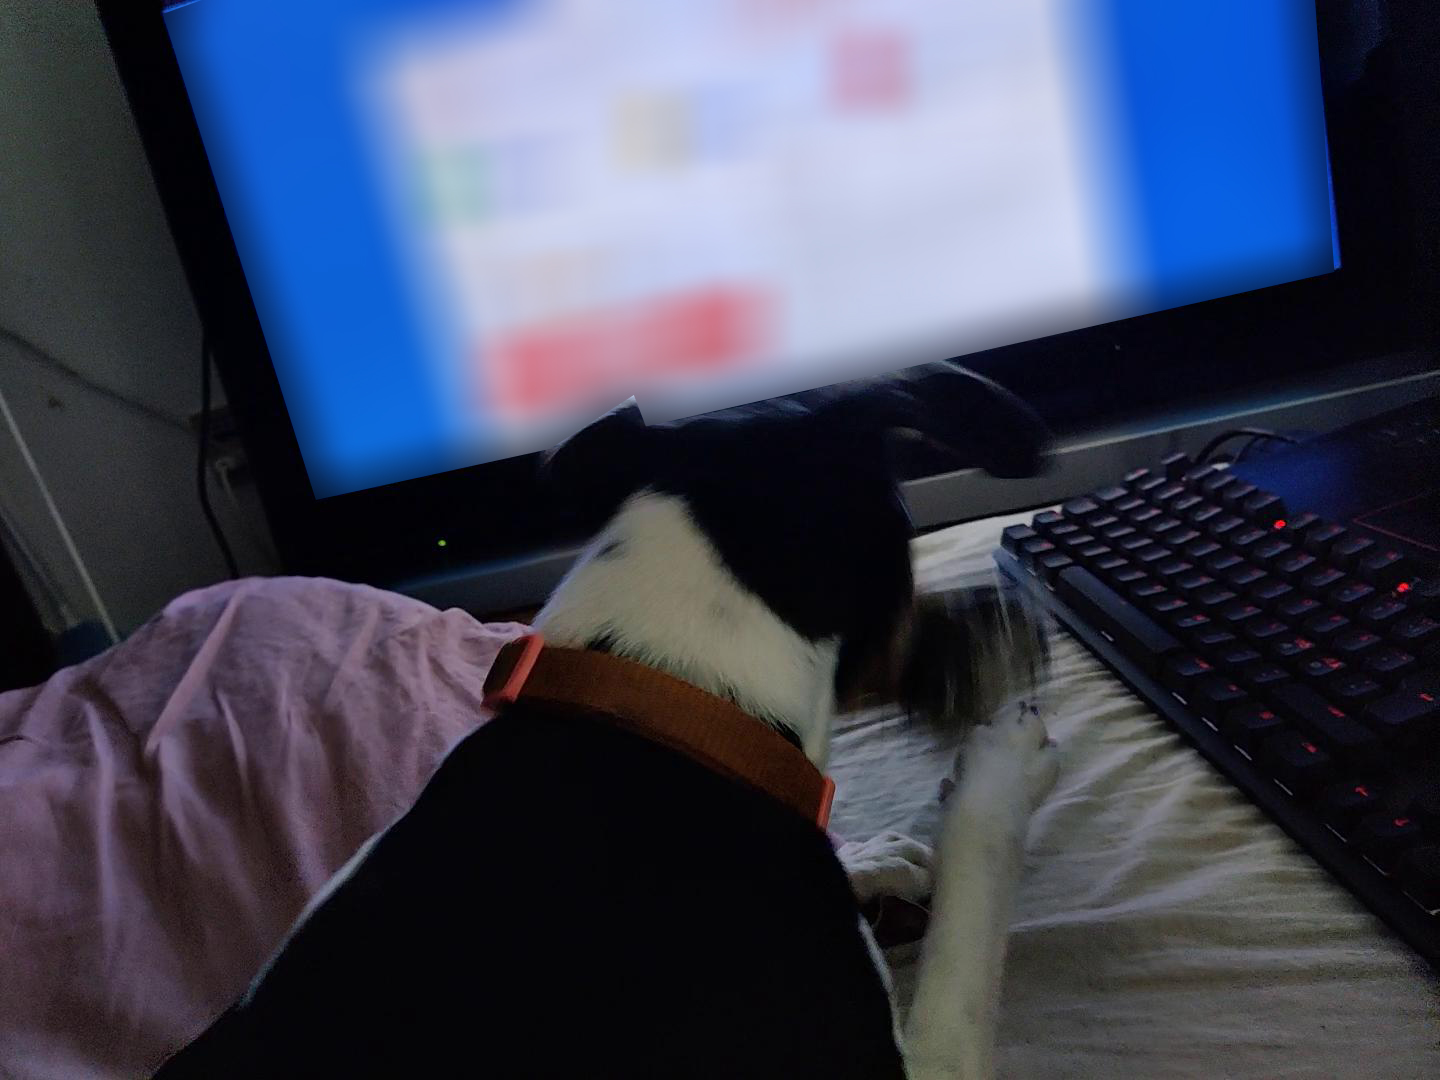Dog: (136, 358, 1070, 1079)
